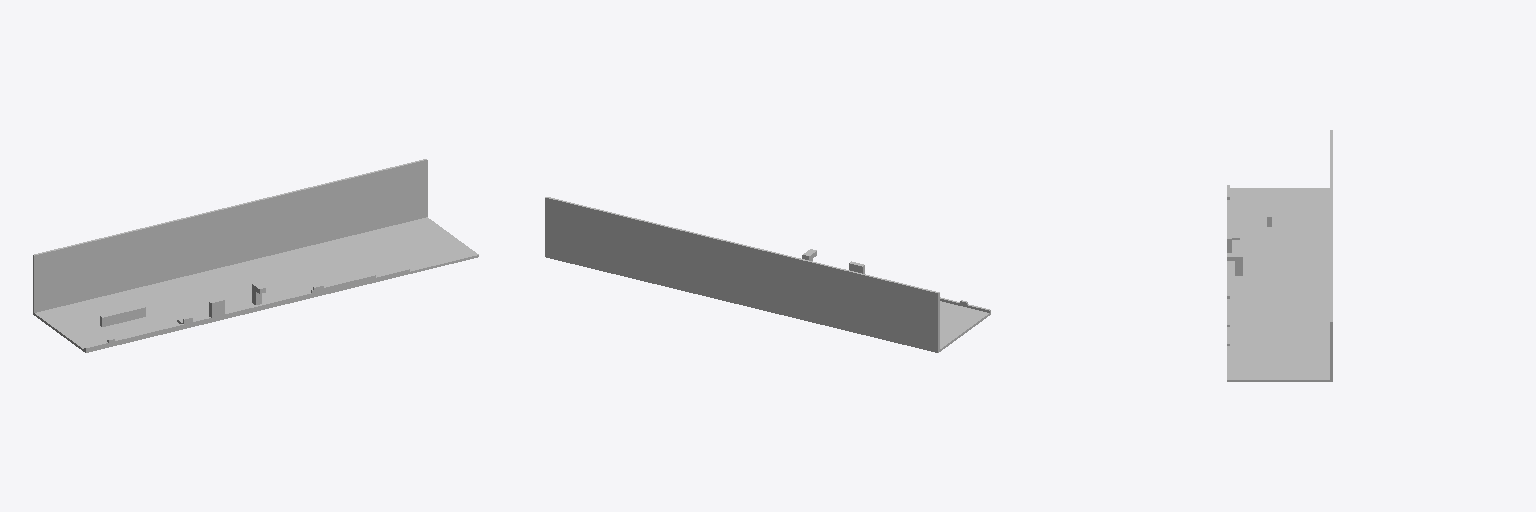
Rendered from level_test.obj.
The picture shows the model from 3 angles: view 1: azimuth 30°, elevation 25°; view 2: azimuth 150°, elevation 25°; view 3: azimuth 270°, elevation 25°; orthographic projection.
Parts seen in each view (by area): view 1: object 1; view 2: object 1; view 3: object 1.
Boxes of the visible parts, x1,y1,x2,y2 form: object 1: [33, 159, 478, 352]; object 1: [545, 197, 990, 352]; object 1: [1227, 130, 1332, 381].
Bounding box in the file's own units: 17.2 × 2.5 × 4.